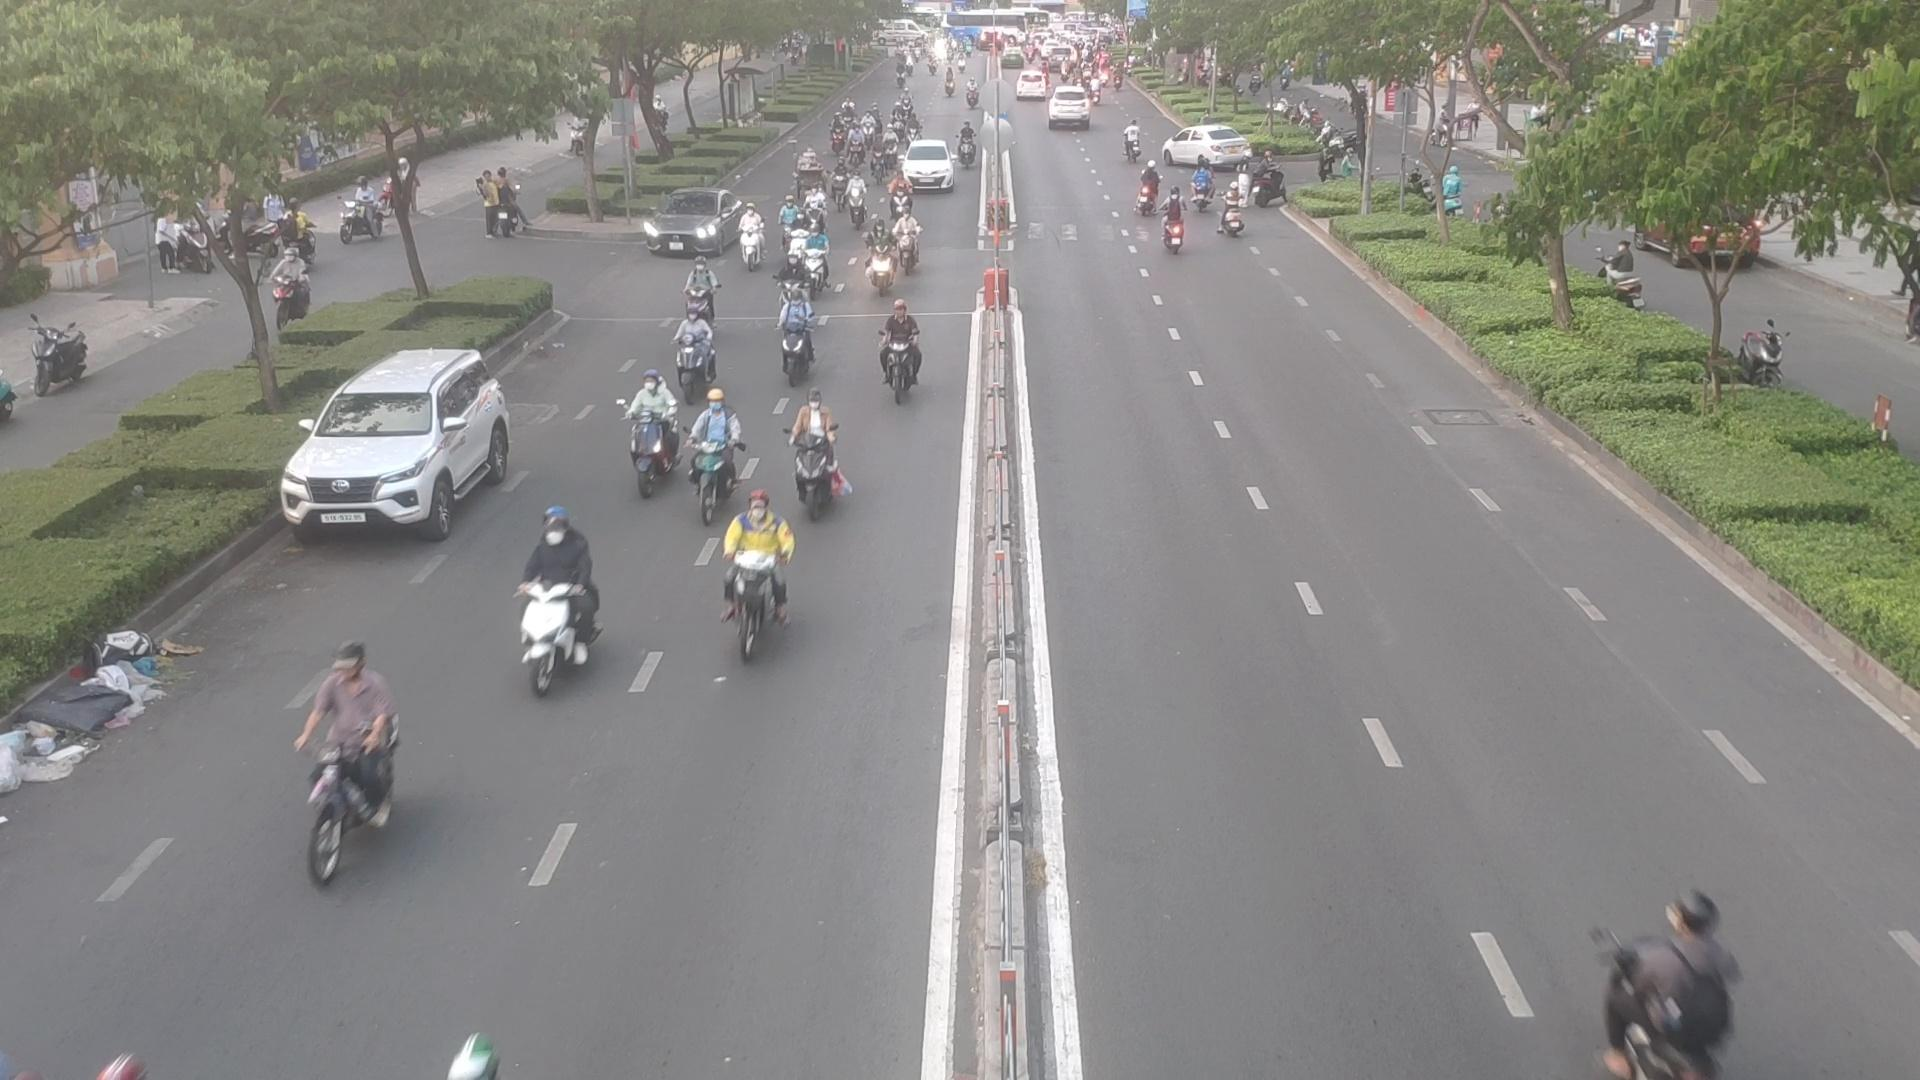car: (280, 345, 518, 538), (637, 190, 742, 260), (1164, 129, 1257, 166), (899, 138, 960, 193)
motorbike: (1571, 894, 1756, 1080), (305, 651, 410, 887), (505, 510, 617, 708), (721, 500, 795, 661), (622, 371, 688, 501), (786, 400, 852, 520), (692, 397, 742, 512), (669, 309, 723, 396), (876, 302, 915, 401), (775, 293, 818, 378), (682, 262, 723, 330), (866, 219, 902, 291), (775, 248, 808, 313), (735, 200, 764, 270), (891, 214, 924, 274), (806, 231, 831, 293), (1185, 161, 1211, 208), (1131, 164, 1154, 214), (807, 181, 829, 228), (1167, 186, 1184, 248), (849, 167, 866, 225), (829, 157, 849, 207), (886, 171, 907, 216), (956, 123, 976, 166), (778, 196, 794, 249), (1226, 178, 1240, 237), (869, 137, 886, 182), (1120, 123, 1139, 161), (789, 214, 803, 258), (902, 115, 919, 152), (848, 124, 862, 164), (828, 113, 843, 150), (889, 123, 895, 164)
